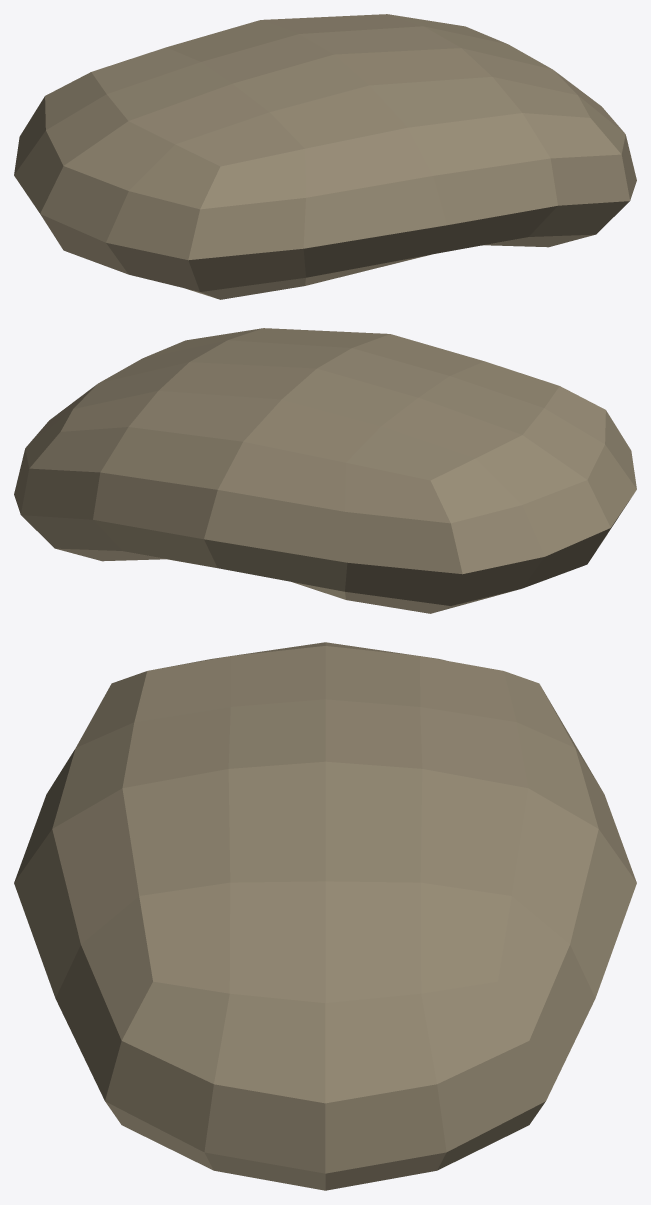
The model's file is SandBag2.fbx.
3 renders of one model, top to bottom at view 1: azimuth 30°, elevation 25°; view 2: azimuth 150°, elevation 25°; view 3: azimuth 270°, elevation 25°, orthographic. The views are drawn at different scales.
Visible parts, largest first — view 1: Plane; view 2: Plane; view 3: Plane.
Boxes of the visible parts, <box> form: Plane: <box>14,14,636,299</box>; Plane: <box>14,328,636,613</box>; Plane: <box>14,642,636,1190</box>.
Size of the model in its own units: 2.02 by 0.6673 by 1.39.
